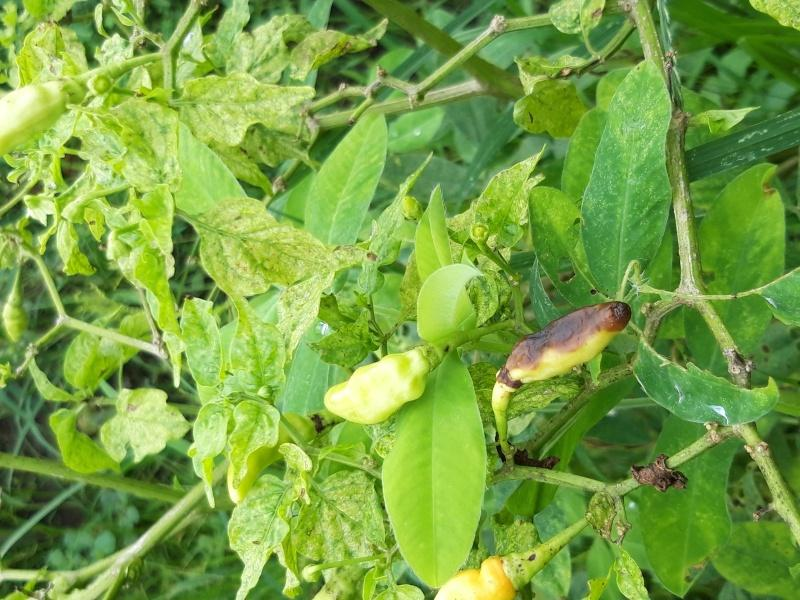antraknosa: (506, 301, 631, 384)
cabai_normal: (324, 350, 428, 426), (431, 556, 518, 600)
